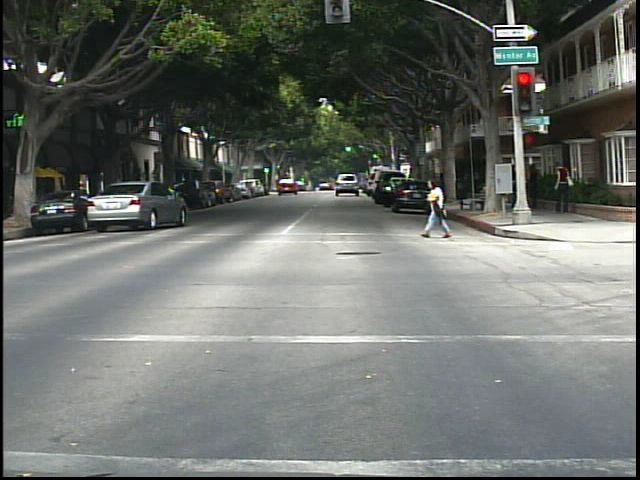person: (421, 176, 458, 244), (553, 158, 577, 218), (526, 158, 547, 215)
